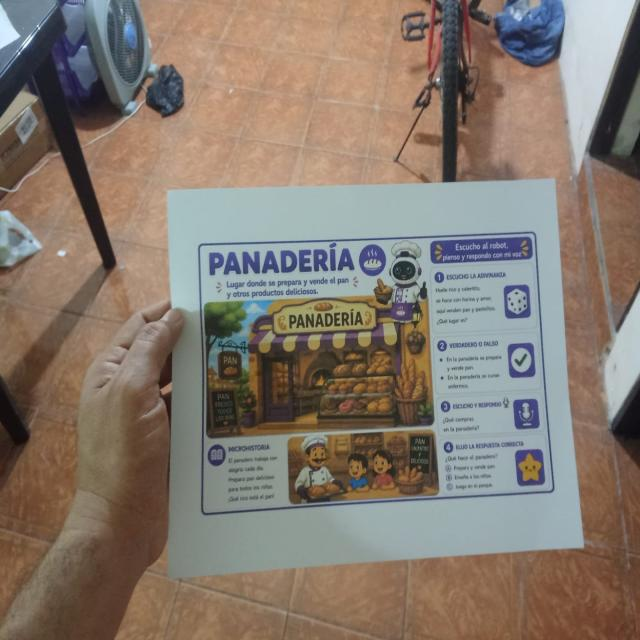panaderia: (195, 225, 559, 524)
